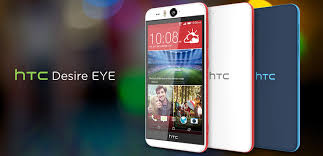htc: (138, 3, 210, 153), (203, 2, 258, 154), (250, 1, 305, 152)
